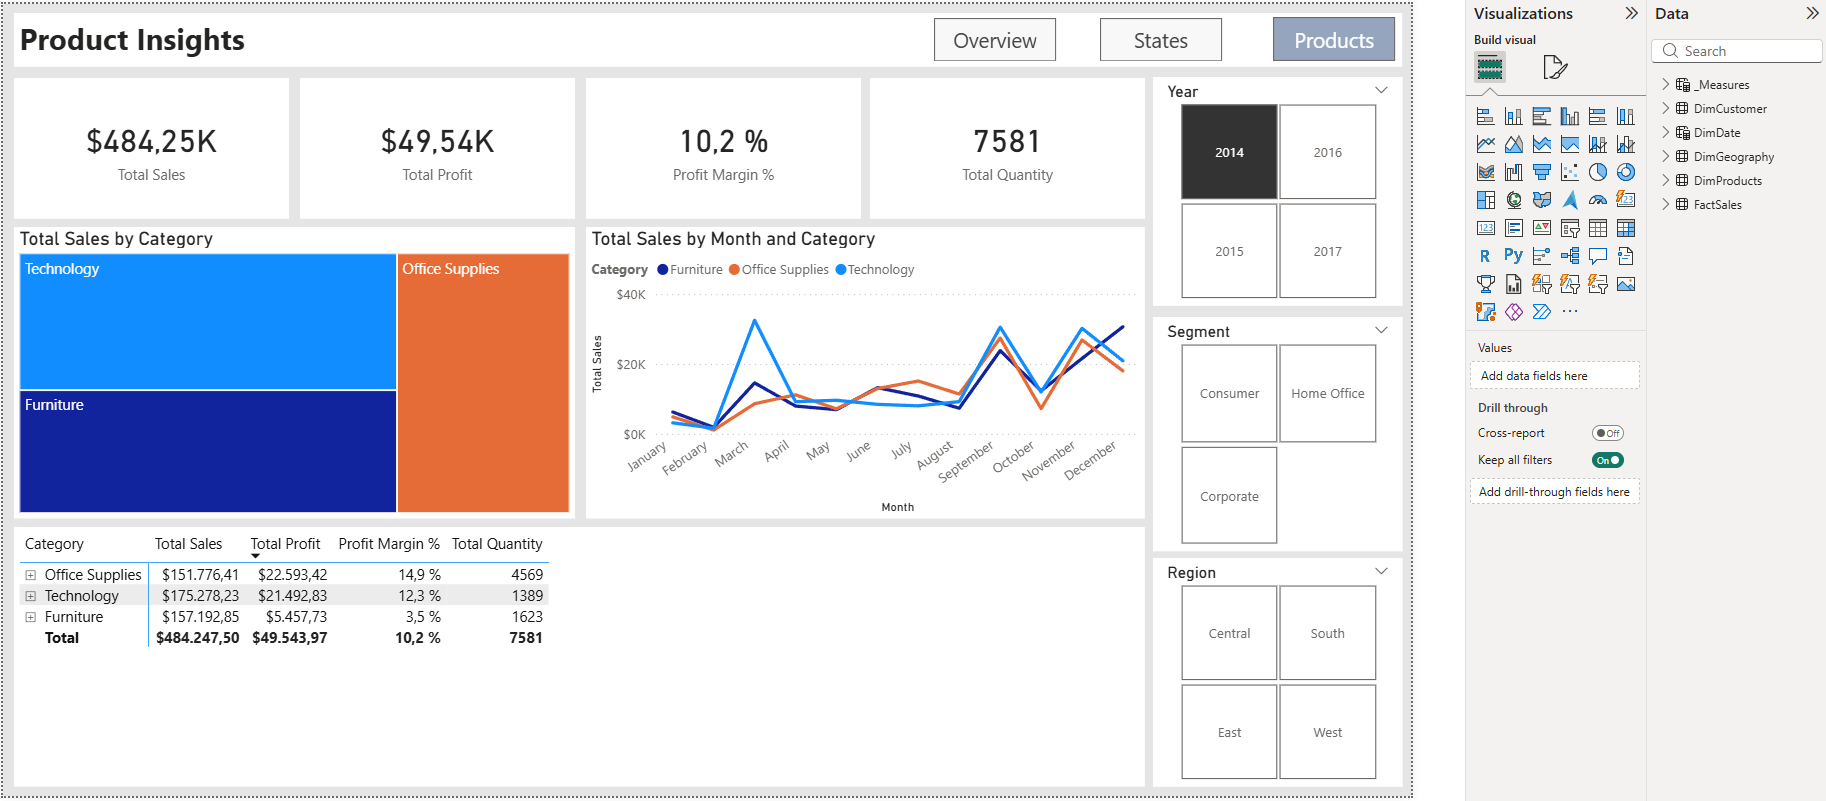

What the dashboard file says about the page in this screenshot:
{"tool":"powerbi","page":{"name":"Product Insights","canvas":[1280,720],"ordinal":2},"visuals":[{"type":"textbox","box":[10,7.8,1262.2,48.9],"z":0},{"type":"slicer","fields":{"Values":["DimDate.Year"]},"box":[1045.6,66.7,226.7,207.8],"z":1000},{"type":"card","fields":{"Values":["_Measures.Total Sales"]},"box":[10,67,250,128],"z":2000},{"type":"card","fields":{"Values":["_Measures.Total Profit"]},"box":[270,67,250,128],"z":3000},{"type":"card","fields":{"Values":["_Measures.Profit Margin %"]},"box":[530,67,250,128],"z":4000},{"type":"card","fields":{"Values":["_Measures.Total Quantity"]},"box":[788,67,250,128],"z":5000},{"type":"slicer","fields":{"Values":["DimCustomer.Segment"]},"box":[1045.6,284.4,226.7,213.3],"z":6000},{"type":"slicer","fields":{"Values":["DimGeography.Region"]},"box":[1045.6,503.3,226.7,207.8],"z":7000},{"type":"treemap","fields":{"Group":["DimProducts.Category","DimProducts.Sub-Category","DimProducts.Product Name"],"Values":["_Measures.Total Sales"]},"box":[10,203,510,265],"z":8000},{"type":"lineChart","fields":{"Y":["_Measures.Total Sales"],"Series":["DimProducts.Category"],"Category":["DimDate.Date.Variation.Date Hierarchy.Month"]},"box":[530,203,508,265],"z":9000},{"type":"pivotTable","fields":{"Rows":["DimProducts.Category","DimProducts.Sub-Category","DimProducts.Product Name"],"Values":["_Measures.Total Sales","_Measures.Total Profit","_Measures.Profit Margin %","_Measures.Total Quantity"]},"box":[10,475,1028,236],"z":10000},{"type":"actionButton","title":"Products","box":[1154.4,12.2,111.1,40],"z":10001},{"type":"actionButton","title":"Products","box":[997.6,12.5,111,39.4],"z":10002},{"type":"actionButton","title":"Products","box":[846.3,12.5,111,39.4],"z":10003}]}

Visuals, with their boxes on the page's 1280x720 design canvas (x1, y1, x2, y2). These are canvas units, not pixel positions in the 1826x801 screenshot, which may show the page scaled, cropped or inside an application window:
textbox: (10, 8, 1272, 57)
slicer - DimDate.Year: (1046, 67, 1272, 274)
card - _Measures.Total Sales: (10, 67, 260, 195)
card - _Measures.Total Profit: (270, 67, 520, 195)
card - _Measures.Profit Margin %: (530, 67, 780, 195)
card - _Measures.Total Quantity: (788, 67, 1038, 195)
slicer - DimCustomer.Segment: (1046, 284, 1272, 498)
slicer - DimGeography.Region: (1046, 503, 1272, 711)
treemap - DimProducts.Category x DimProducts.Sub-Category: (10, 203, 520, 468)
lineChart - _Measures.Total Sales x DimProducts.Category: (530, 203, 1038, 468)
pivotTable - DimProducts.Category x DimProducts.Sub-Category: (10, 475, 1038, 711)
"Products" actionButton: (1154, 12, 1266, 52)
"Products" actionButton: (998, 12, 1109, 52)
"Products" actionButton: (846, 12, 957, 52)
